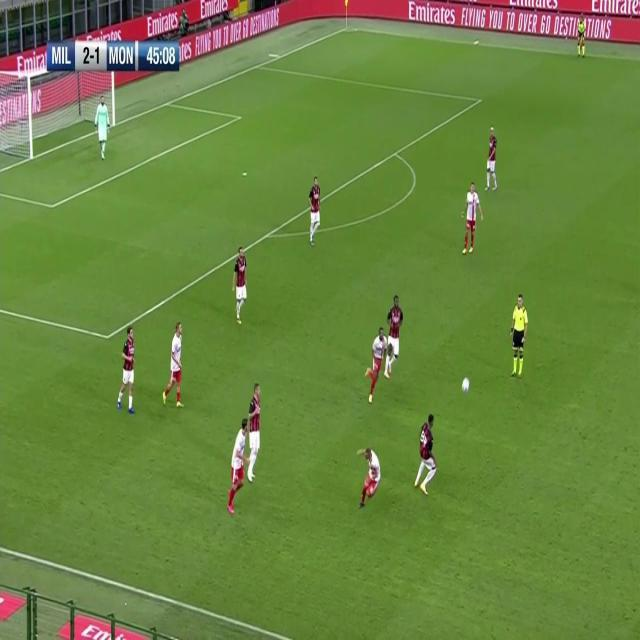ball: (461, 374, 471, 395)
player: (226, 419, 250, 517), (162, 319, 186, 409), (362, 324, 388, 402), (414, 413, 438, 497), (115, 324, 137, 414), (459, 180, 484, 255), (508, 290, 528, 380), (246, 379, 264, 479), (356, 446, 382, 510), (386, 293, 404, 367), (232, 245, 248, 327), (307, 172, 323, 248), (94, 96, 110, 161), (485, 122, 499, 194), (576, 9, 586, 59)
